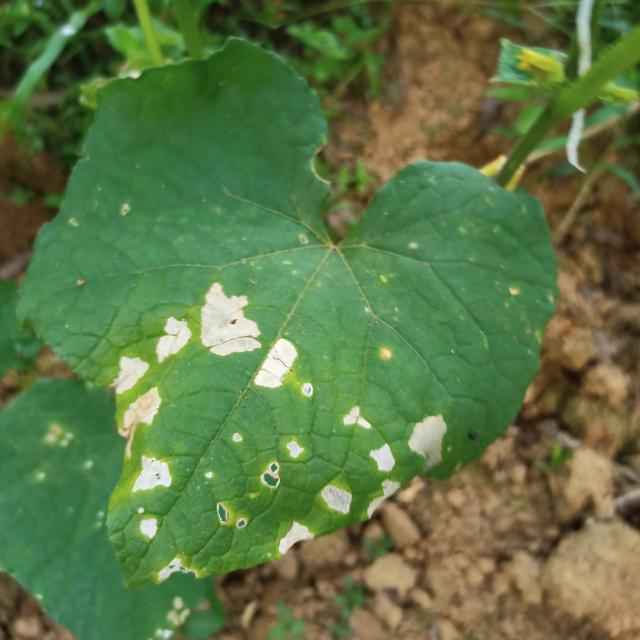disease_cucumber: (203, 281, 298, 396), (342, 404, 444, 474), (113, 354, 162, 438), (133, 454, 173, 542), (315, 477, 399, 515), (156, 315, 192, 365), (264, 440, 300, 488), (271, 520, 311, 554)
